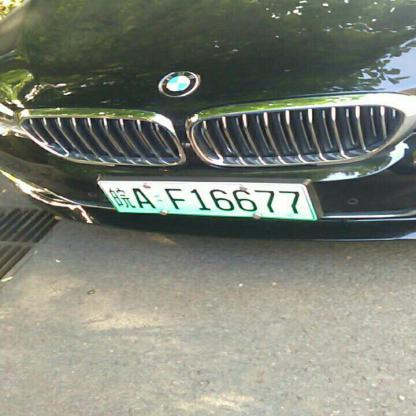lp: (101, 183, 312, 218)
